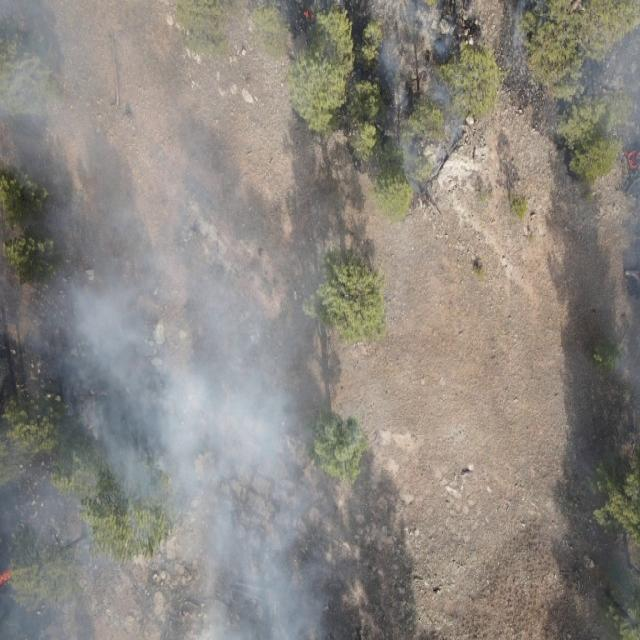fire: (626, 146, 640, 173), (0, 568, 12, 588), (300, 8, 316, 23)
smoke: (0, 0, 362, 640), (378, 0, 470, 185), (507, 0, 640, 124), (613, 122, 640, 426)
